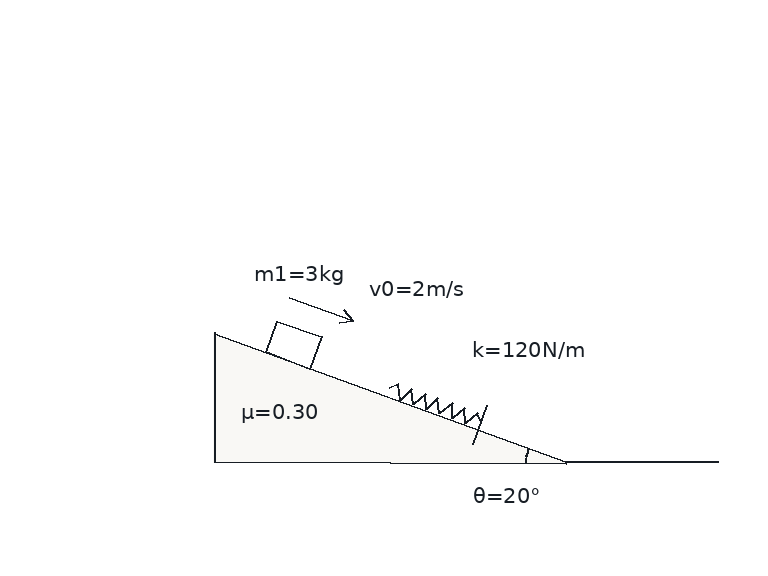block: (263, 319, 323, 370)
ramp: (212, 332, 568, 464)
spring: (387, 382, 483, 425)
